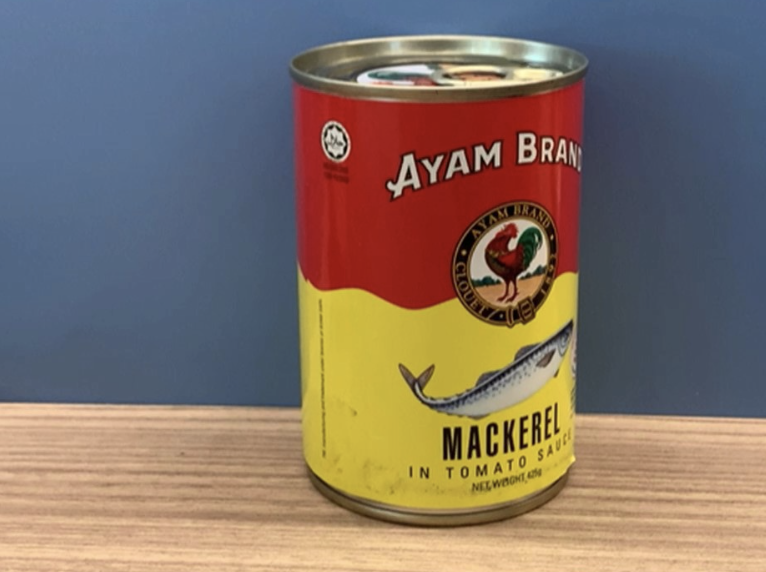sardines_400g-499g: (305, 54, 576, 492)
